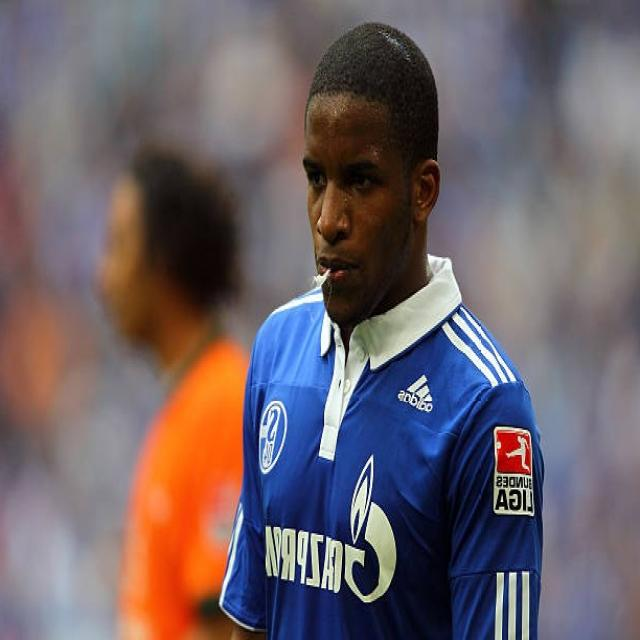Spitting: (255, 21, 444, 397)
